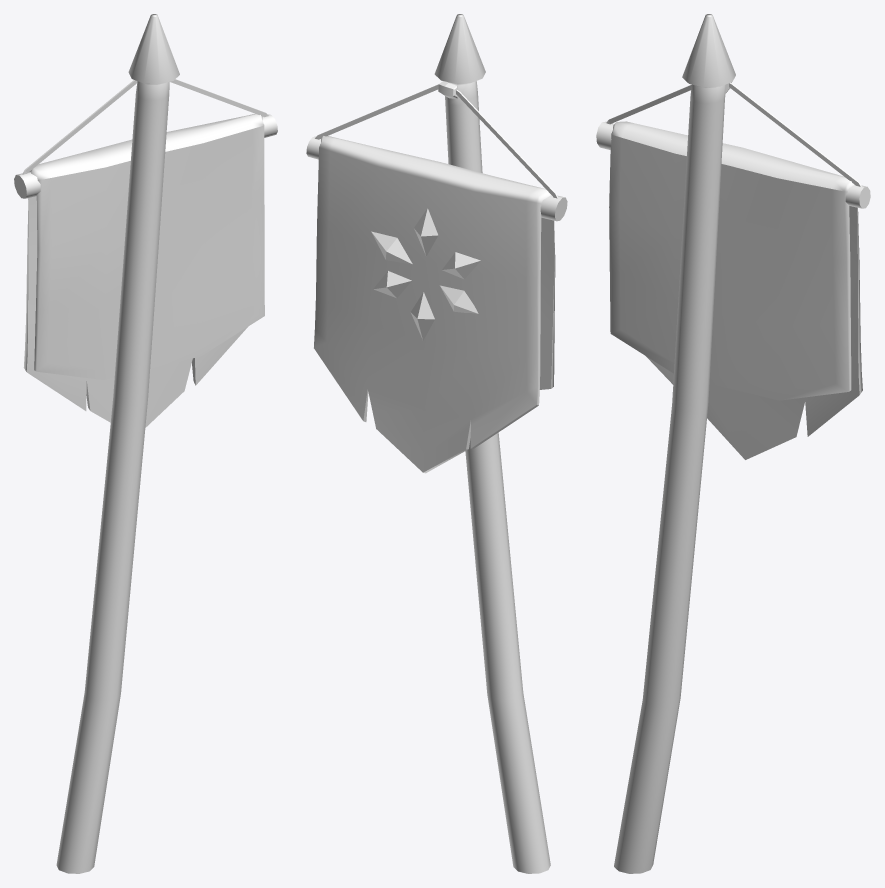
The model's file is Prop_APFlagAnim_Persistent.glb.
3 views of the same model, side by side, from view 1: azimuth 30°, elevation 25°; view 2: azimuth 150°, elevation 25°; view 3: azimuth 330°, elevation 25° (orthographic). The views are drawn at different scales.
Parts seen in each view (by area): view 1: Prop_APFlagAnim_Persistent; view 2: Prop_APFlagAnim_Persistent; view 3: Prop_APFlagAnim_Persistent.
Part boxes in pixels (left/top/right/bottom): Prop_APFlagAnim_Persistent: left=14, top=14, right=277, bottom=873; Prop_APFlagAnim_Persistent: left=306, top=14, right=567, bottom=873; Prop_APFlagAnim_Persistent: left=596, top=14, right=870, bottom=873.
Bounding box in the file's own units: 0.564 × 1.78 × 0.184.
Materials: 1 (1 with a texture image).
